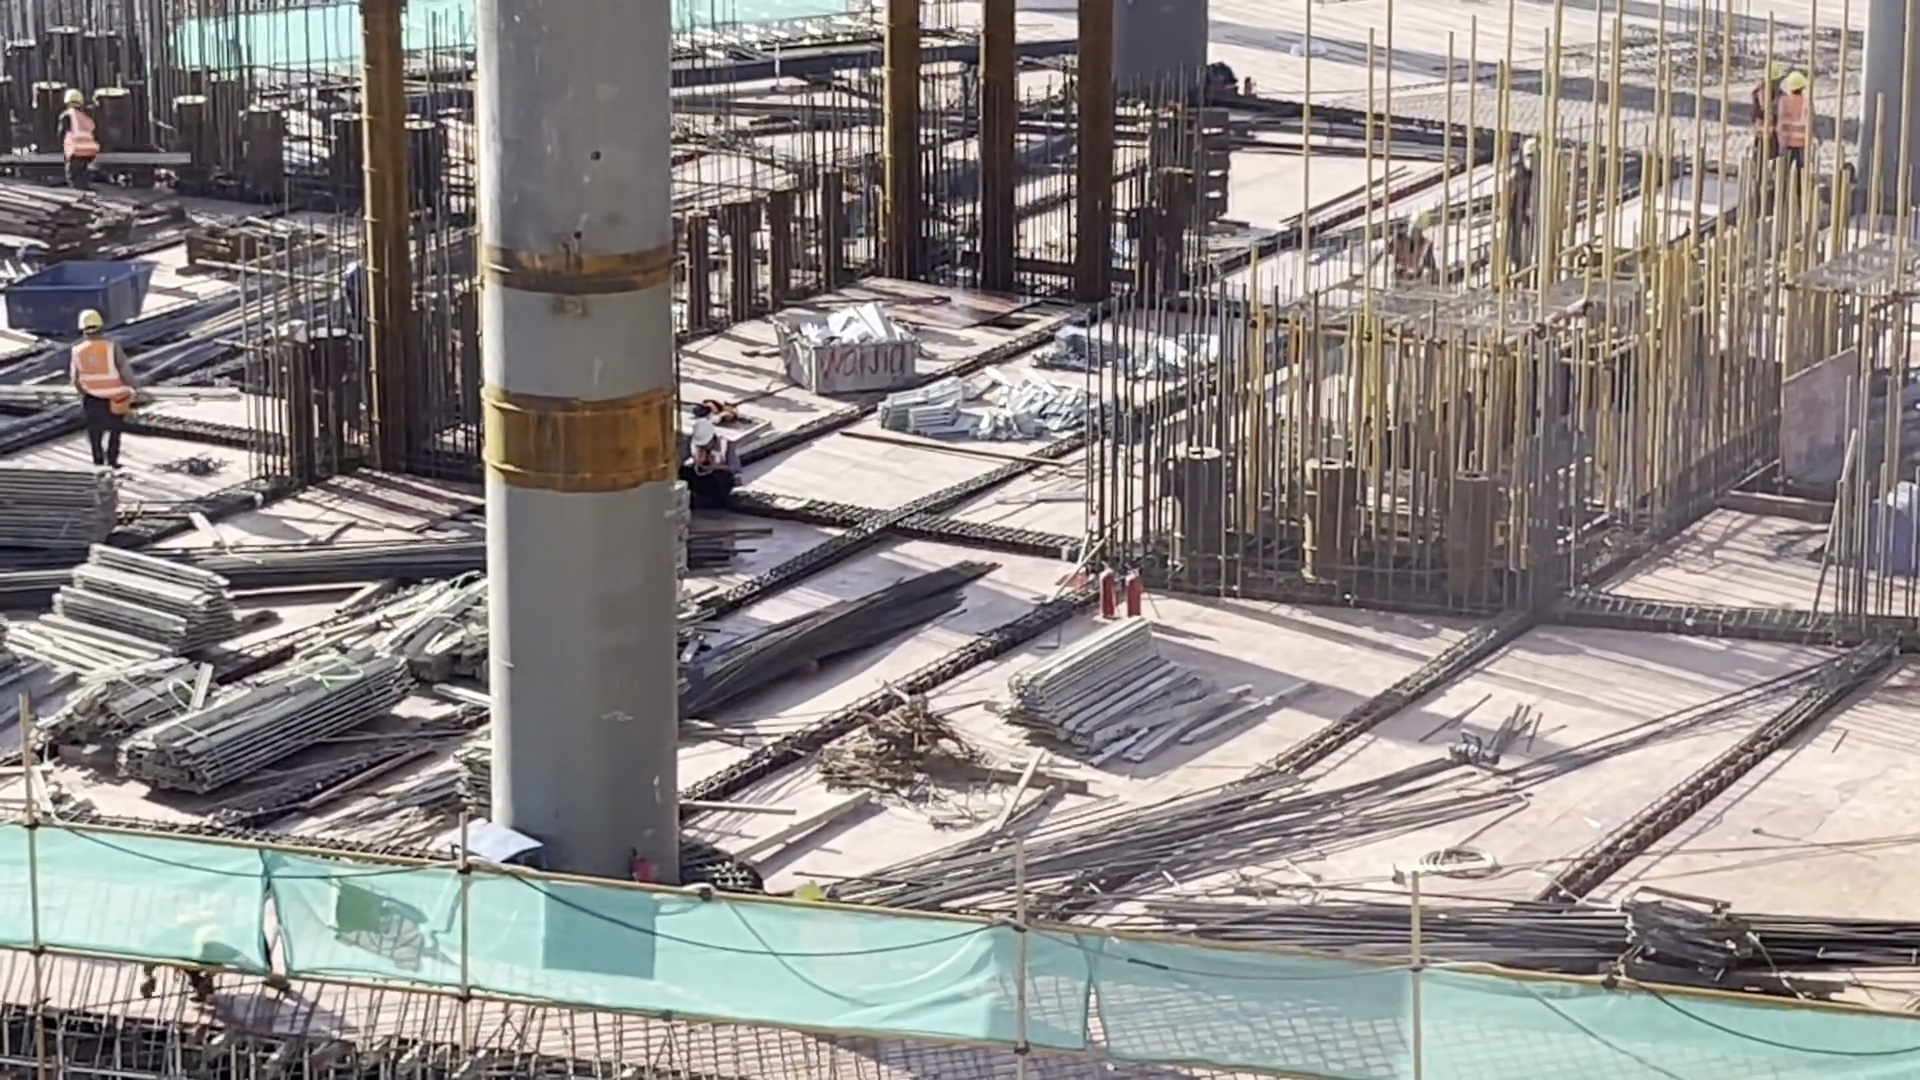helmet: (684, 417, 723, 453), (77, 304, 104, 337), (59, 91, 86, 111), (1786, 69, 1808, 87)
hopper: (771, 289, 922, 398), (1, 260, 158, 345)
person: (74, 316, 141, 449), (1762, 61, 1826, 193), (38, 75, 107, 193), (674, 409, 737, 494)
vest: (74, 335, 129, 417), (47, 104, 104, 169), (1771, 98, 1807, 145)
wood: (999, 611, 1217, 775), (133, 643, 385, 776), (48, 538, 243, 665), (1, 443, 133, 563)
